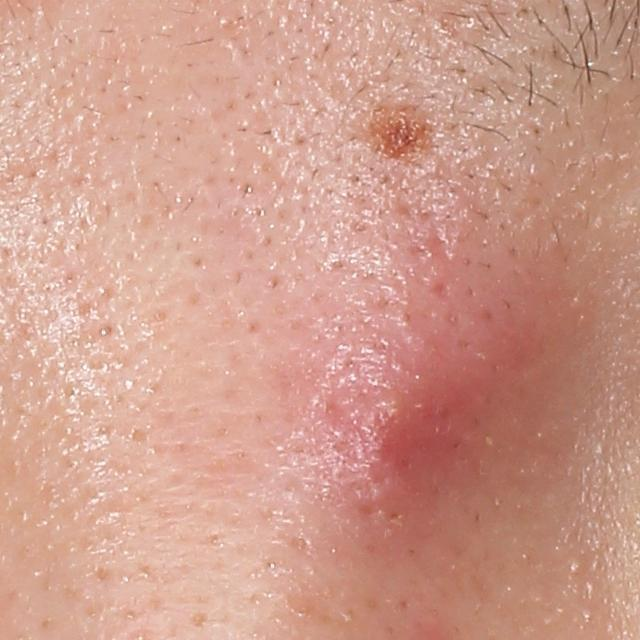nevus: (374, 104, 436, 166)
nodule: (274, 220, 619, 567)
